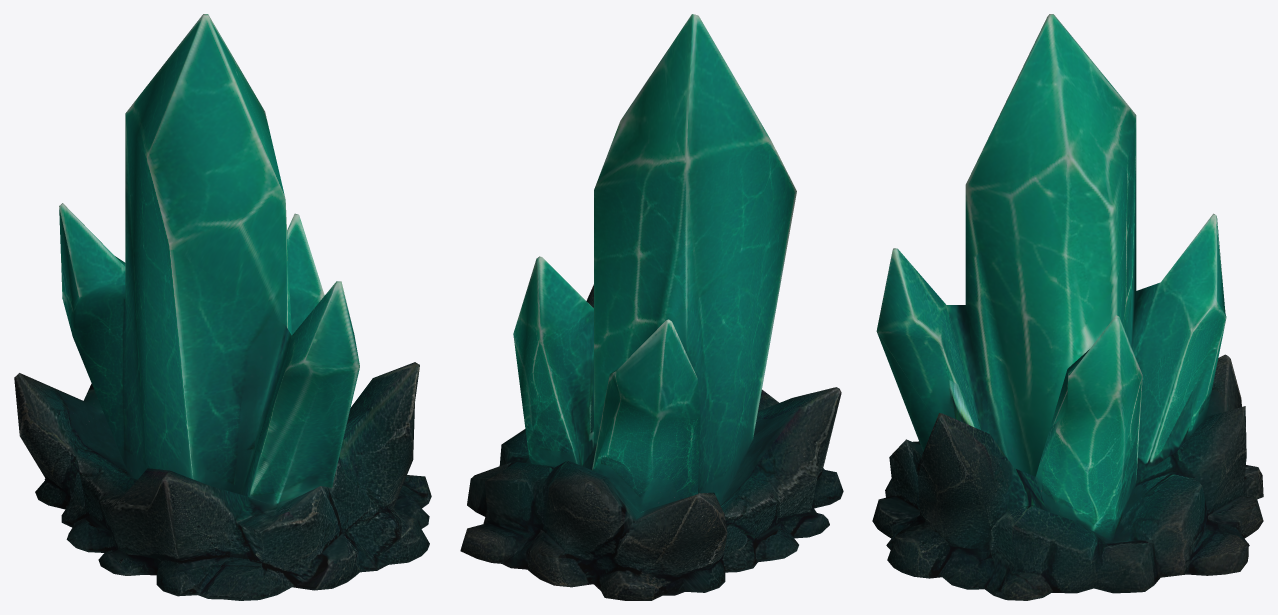
Rendered from stylized+emerald+crystal+3d+model.fbx.
The picture shows the model from 3 angles, left to right: view 1: azimuth 30°, elevation 25°; view 2: azimuth 150°, elevation 25°; view 3: azimuth 270°, elevation 25°; orthographic projection. The views are drawn at different scales.
Visible parts, largest first — view 1: meshes[0]; view 2: meshes[0]; view 3: meshes[0].
Boxes of the visible parts, box(x1,y1,x2,y2) form: meshes[0]: box(14, 14, 431, 600); meshes[0]: box(460, 14, 843, 600); meshes[0]: box(872, 14, 1263, 600).
Bounding box in the file's own units: 0.6543 × 0.998 × 0.7207.
